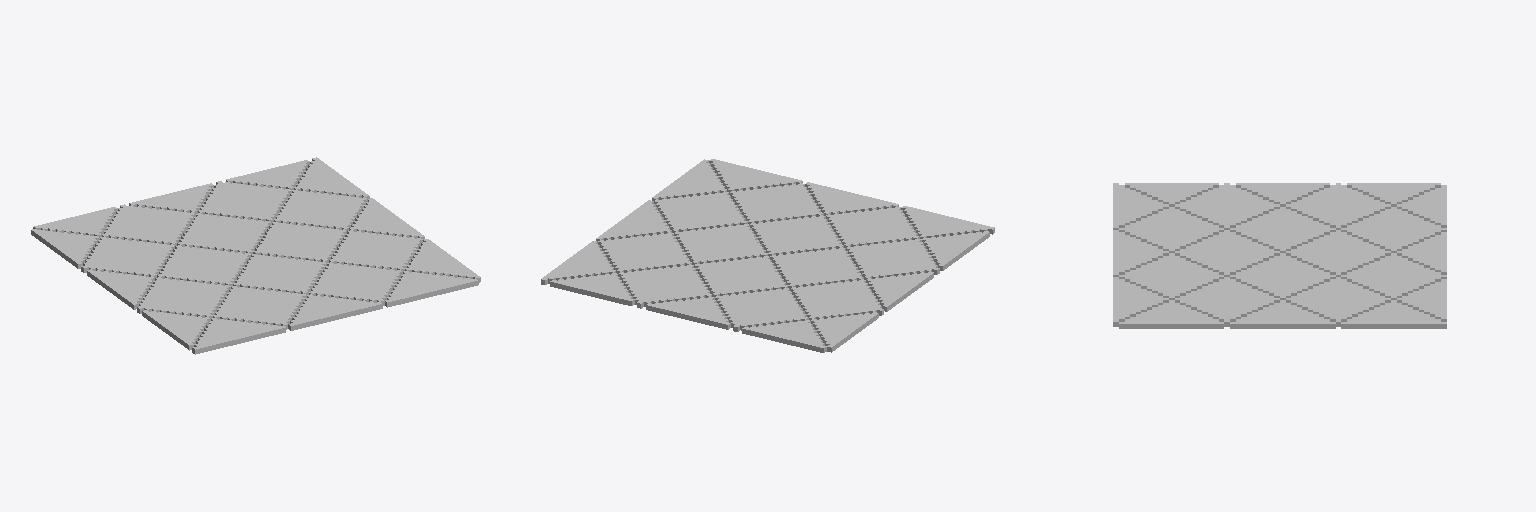
The model's file is floor.obj.
3 views of the same model, side by side, from view 1: azimuth 30°, elevation 25°; view 2: azimuth 150°, elevation 25°; view 3: azimuth 270°, elevation 25° (orthographic).
Parts seen in each view (by area): view 1: object 1; view 2: object 1; view 3: object 1.
Boxes of the visible parts, x1,y1,x2,y2 form: object 1: [31, 157, 480, 354]; object 1: [541, 159, 994, 352]; object 1: [1113, 183, 1446, 328].
Size of the model in its own units: 6 by 0.1 by 6.